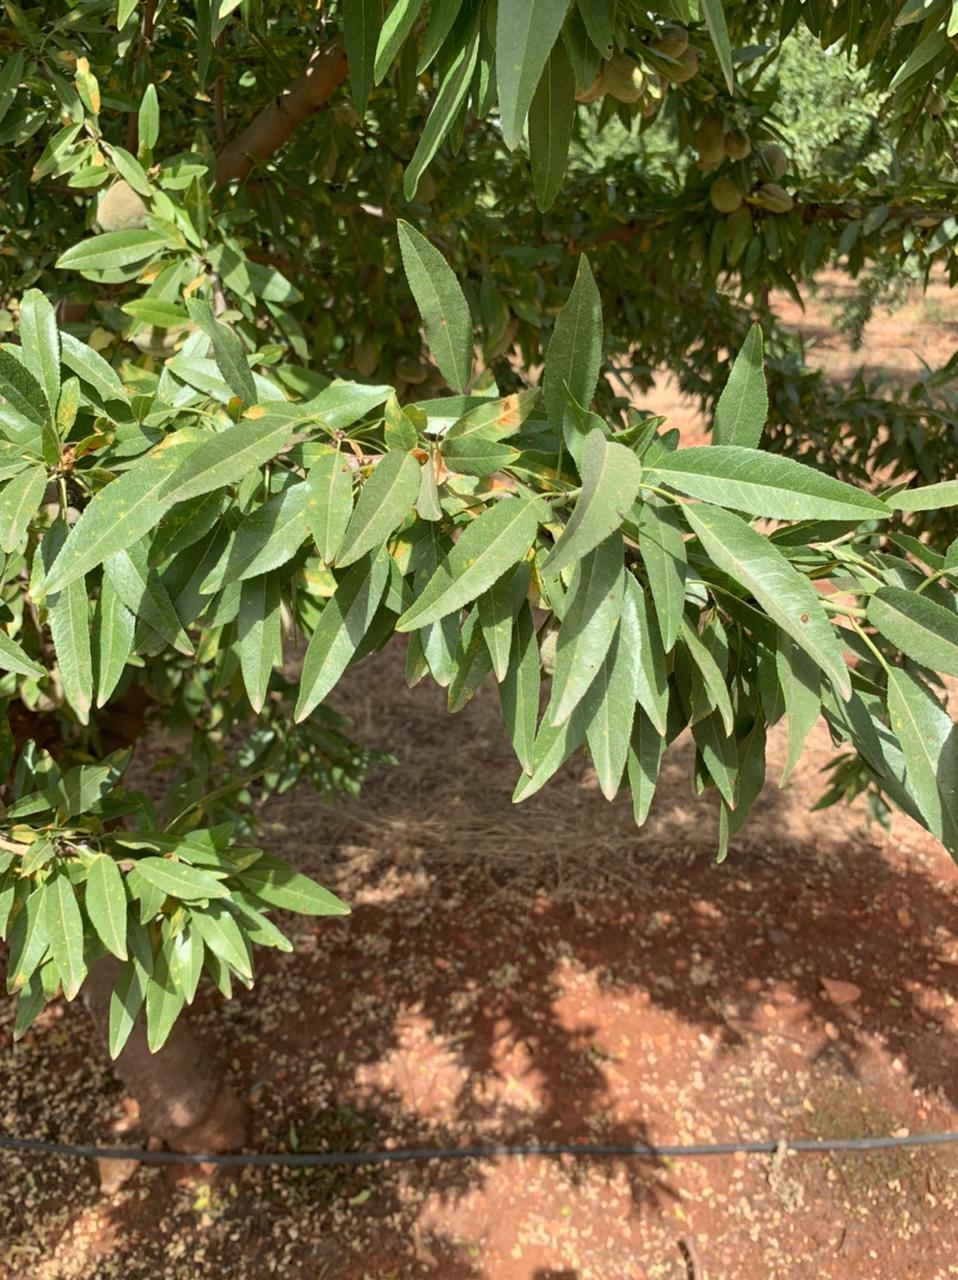polystigma: (679, 499, 855, 702), (40, 442, 204, 595), (393, 496, 547, 637), (445, 385, 544, 449), (305, 449, 354, 563)
